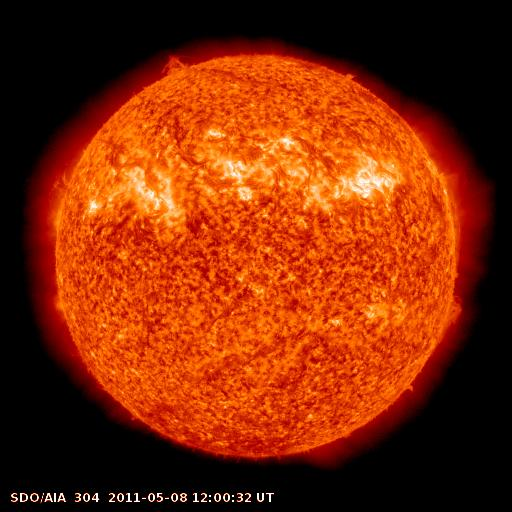prominence: (432, 293, 475, 344), (43, 165, 81, 208), (152, 43, 194, 80)
